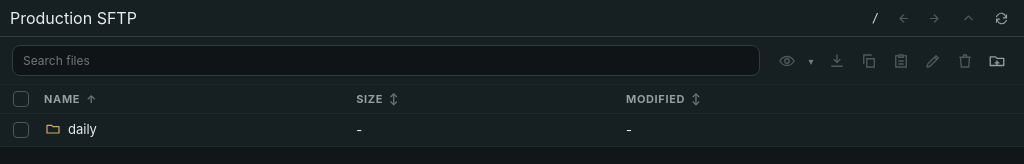
Scenario: RemoteFilePane › 戻ると進むでディレクトリ履歴をたどれる
Double-click the text "daily" at (512, 130), box [0, 114, 1023, 146]
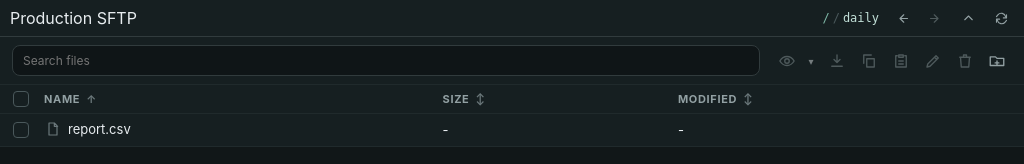
Now the text "report.csv" is shown, box [68, 120, 131, 136]
Click the button named "Back" at (902, 18), box [889, 5, 915, 31]
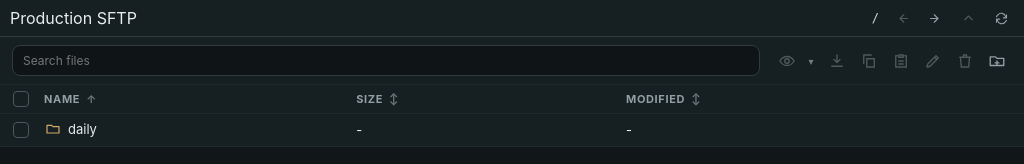
Expected: the text "daily" is shown, [68, 120, 97, 136]
Click the button named "Forward" at (935, 18), box [922, 5, 948, 31]
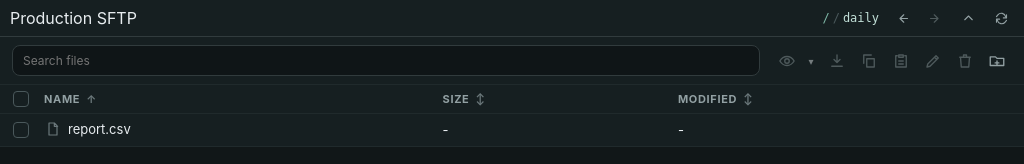
Now the text "report.csv" is shown, box [68, 120, 131, 136]
